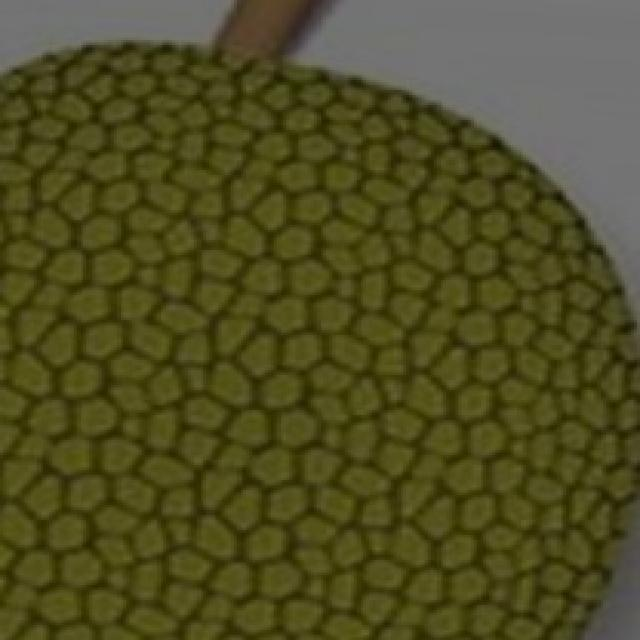Fruit: (0, 2, 403, 358), (243, 5, 640, 290)
